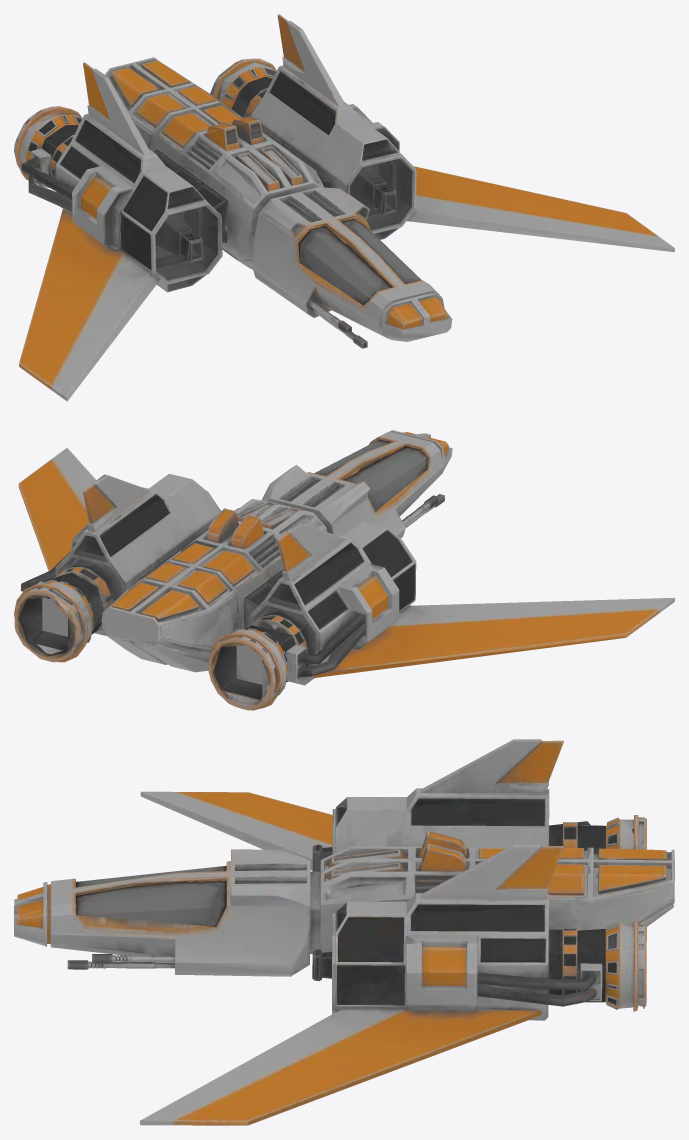
File: sdrone.glb
The picture shows the model from 3 angles, top to bottom: view 1: azimuth 30°, elevation 25°; view 2: azimuth 150°, elevation 25°; view 3: azimuth 270°, elevation 25°; orthographic projection. The views are drawn at different scales.
Size of the model in its own units: 25.92 by 6.51 by 21.89.
Materials: 1 (1 with a texture image).
